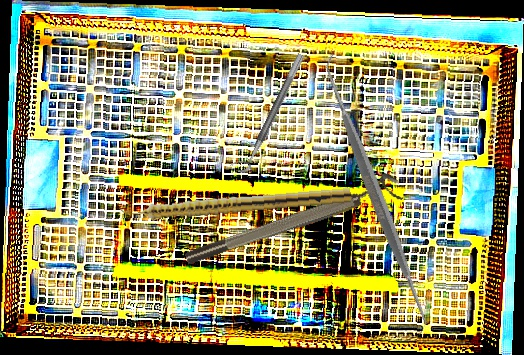Fixation Ring: (180, 170, 404, 269), (229, 47, 306, 177)
Handpiece: (118, 182, 352, 224)
Spatula Surgical: (232, 52, 520, 336)
